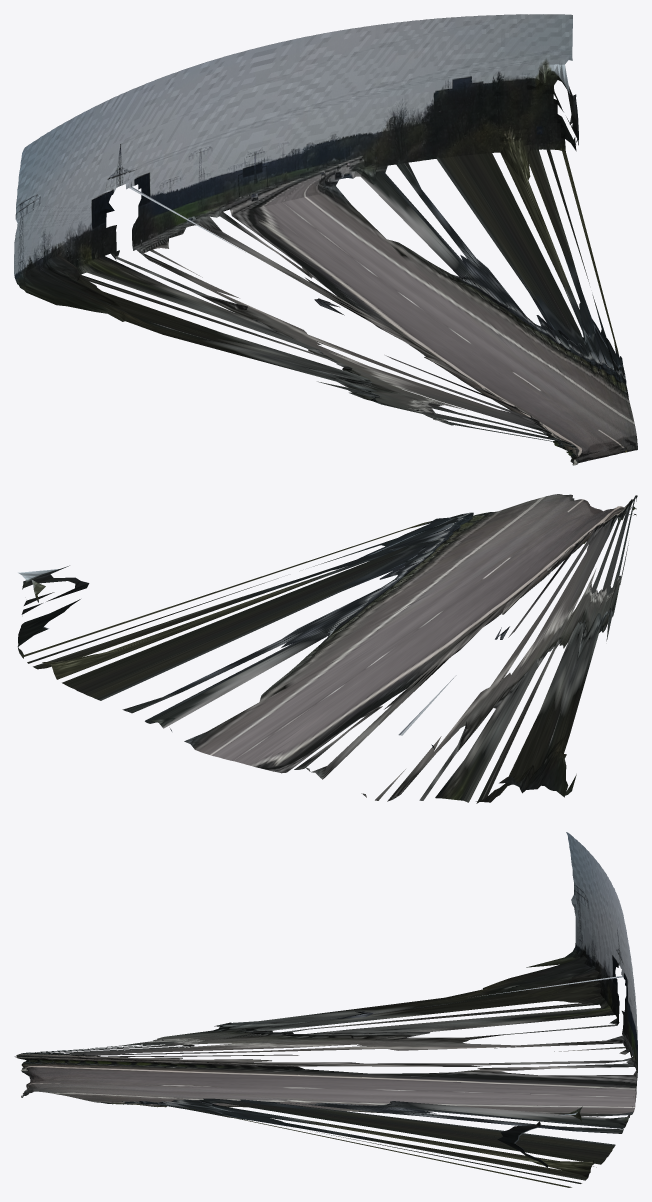
The picture shows the model from 3 angles, top to bottom: view 1: azimuth 30°, elevation 25°; view 2: azimuth 150°, elevation 25°; view 3: azimuth 270°, elevation 25°; orthographic projection. The views are drawn at different scales.
Parts seen in each view (by area): view 1: defaultobject; view 2: defaultobject; view 3: defaultobject.
Part boxes in pixels (x1,y1,x2,y2): defaultobject: (14,14,637,465); defaultobject: (17,494,637,803); defaultobject: (14,832,637,1187).
Bounding box in the file's own units: 41.03 × 12.43 × 44.98.
1 material, 1 textured.
